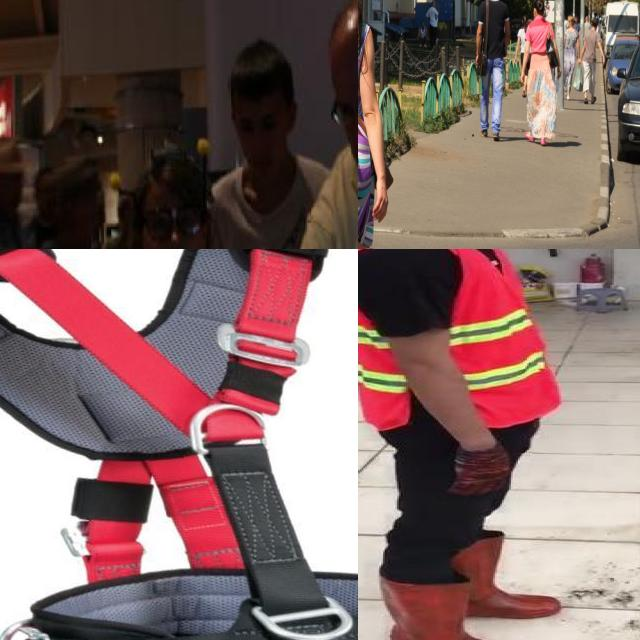Harness: (0, 249, 358, 640)
boots: (438, 535, 562, 619), (375, 579, 539, 640)
face_nomask: (238, 102, 291, 156), (143, 204, 206, 249), (329, 82, 358, 168)
glasses: (137, 211, 212, 246)
hand_glove: (445, 448, 515, 495)
head_nohelmet: (220, 38, 305, 116), (125, 158, 223, 219), (324, 0, 358, 56)
person: (358, 249, 581, 640), (201, 36, 344, 249), (280, 0, 358, 249), (95, 157, 250, 249)
vest: (358, 249, 560, 431)
